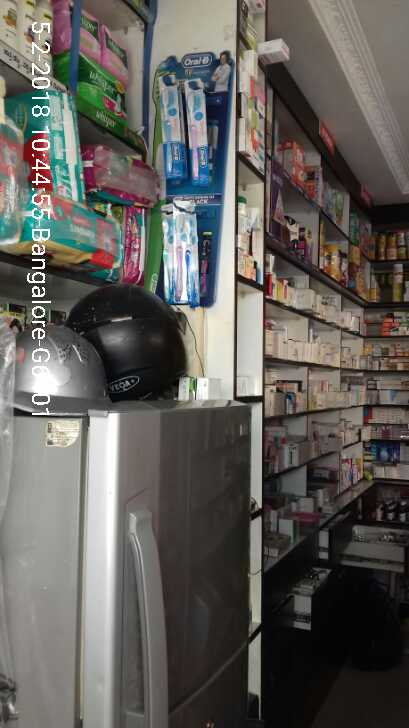pharmacy: (24, 191, 125, 289), (77, 9, 144, 129), (149, 76, 187, 175), (171, 211, 201, 305), (187, 78, 211, 184)
